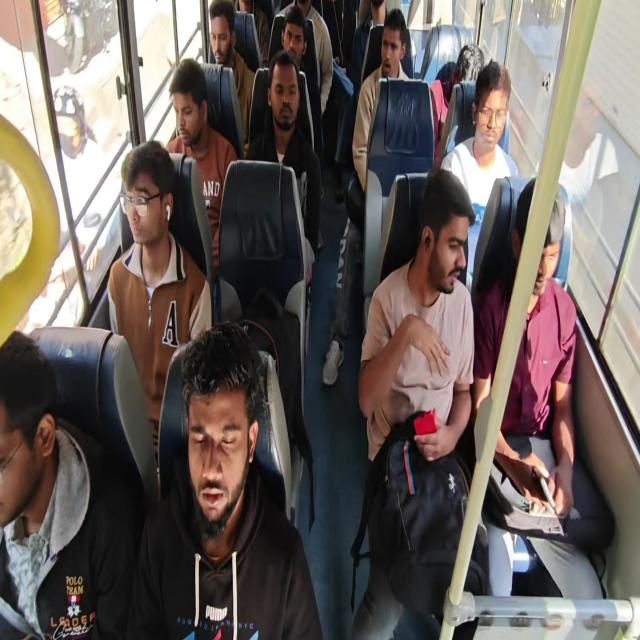person: (150, 322, 266, 523), (393, 165, 490, 328), (116, 142, 184, 317), (520, 193, 609, 316), (18, 354, 59, 581), (472, 74, 521, 151), (170, 78, 203, 166), (275, 2, 312, 75), (434, 40, 472, 104), (205, 2, 234, 85), (322, 0, 353, 72), (376, 17, 409, 82), (278, 0, 320, 39), (267, 64, 295, 114), (239, 0, 263, 32), (371, 3, 387, 30)
